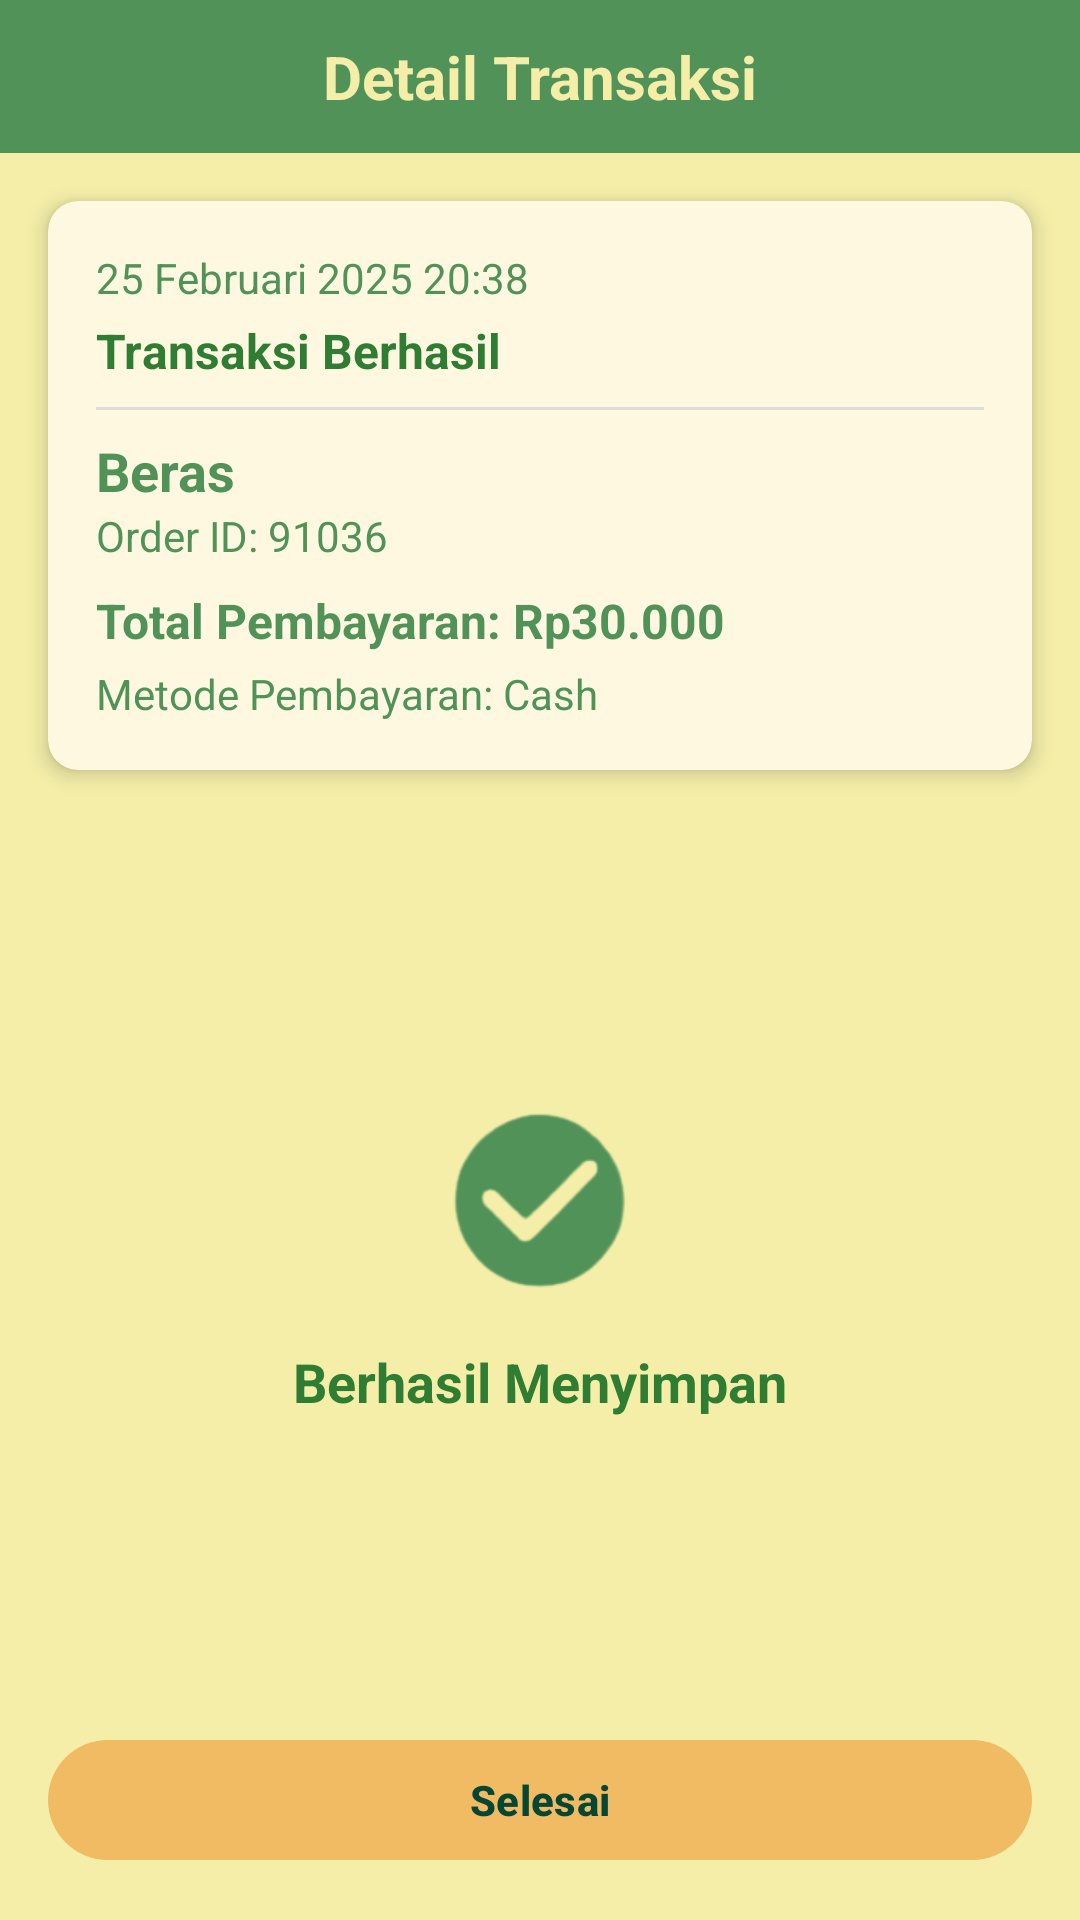

Named icons in this screenshot (1080w x 1920h) and their bounding boxes, (x1, y1, x2, y2):
centang: (455, 1114, 625, 1287)
